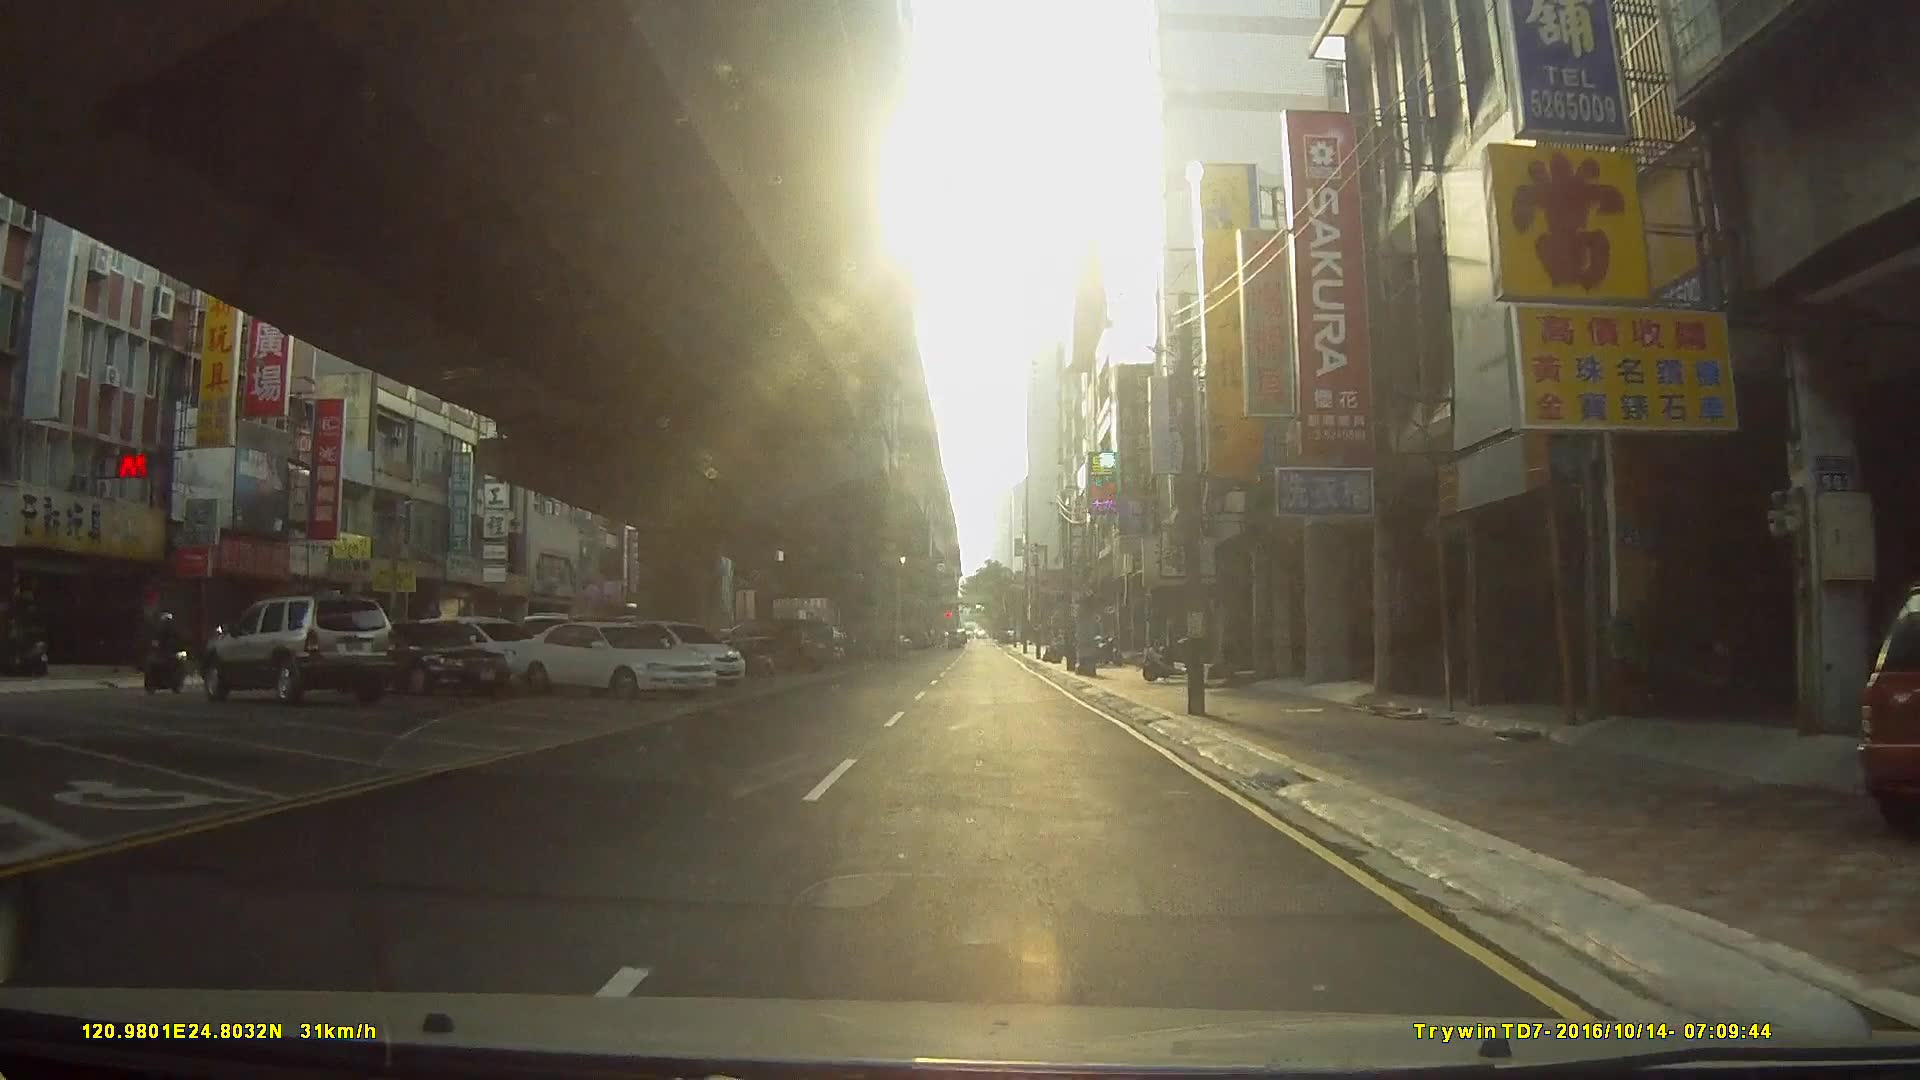rider: (142, 613, 196, 695)
vehicle: (198, 597, 394, 707), (301, 619, 509, 699), (505, 620, 720, 697), (1859, 581, 1920, 831)
